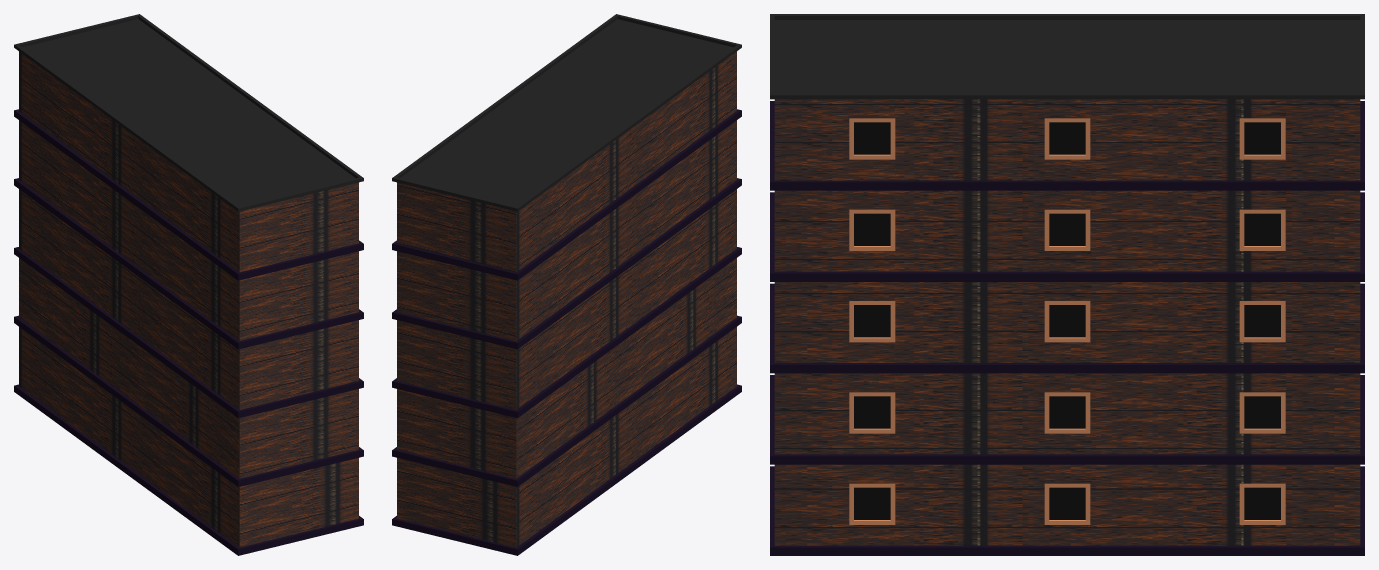
The model's file is buil5.glb.
3 views of the same model, side by side, from view 1: azimuth 30°, elevation 25°; view 2: azimuth 150°, elevation 25°; view 3: azimuth 270°, elevation 25° (orthographic). The views are drawn at different scales.
Parts seen in each view (by area): view 1: building_007; view 2: building_007; view 3: building_007.
Boxes of the visible parts, box(x1,y1,x2,y2) form: building_007: box(14, 14, 363, 555); building_007: box(392, 14, 741, 555); building_007: box(770, 14, 1364, 555).
Size of the model in its own units: 4.2 by 11.1 by 12.99.
5 materials, 1 textured.
